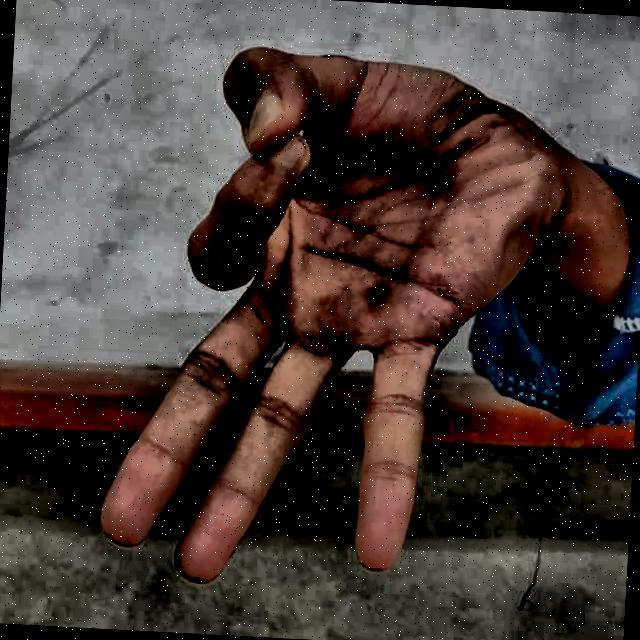Fa: (75, 21, 588, 628)
